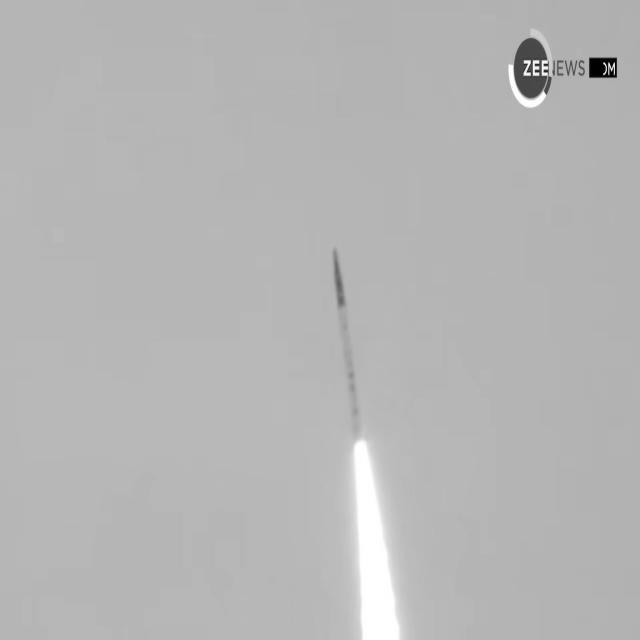Missile: (331, 231, 374, 459)
